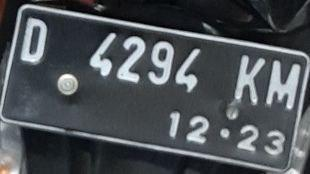2: (112, 31, 151, 88)
4: (169, 37, 210, 99), (82, 25, 122, 82)
9: (142, 37, 181, 94)
D: (16, 14, 53, 68)
K: (229, 47, 271, 111), (262, 53, 305, 115)
